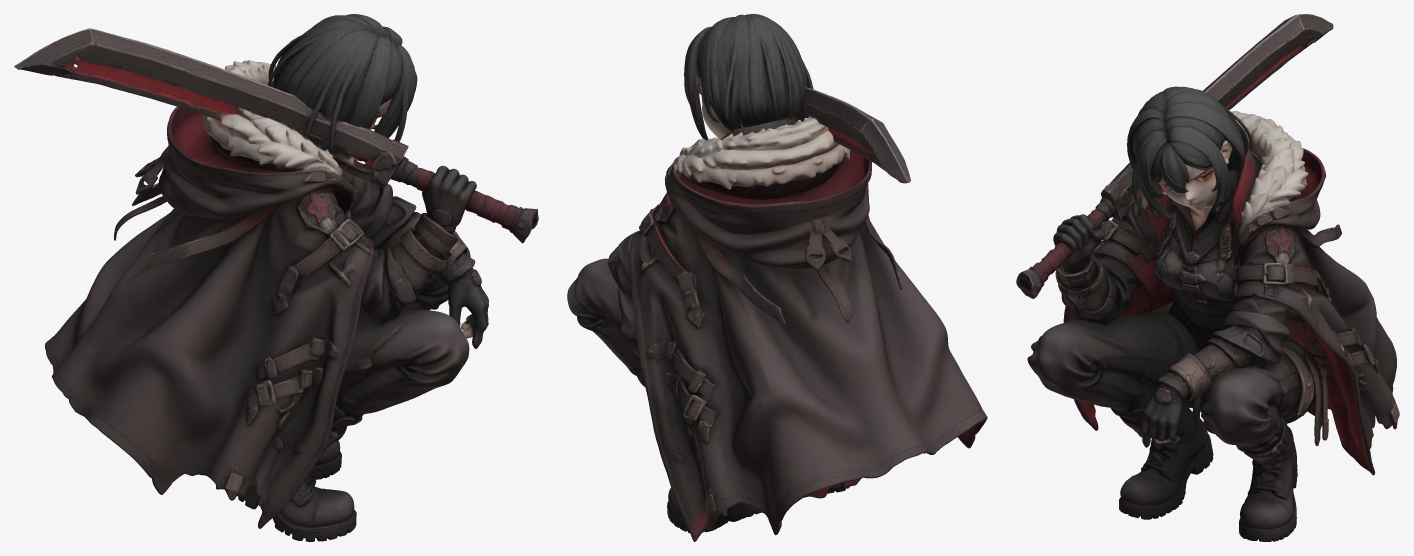
File: 332-armored-female-warrior.glb
The picture shows the model from 3 angles, left to right: view 1: azimuth 30°, elevation 25°; view 2: azimuth 150°, elevation 25°; view 3: azimuth 270°, elevation 25°; orthographic projection. The views are drawn at different scales.
Visible parts, largest first — view 1: tripo_node_f992da88-65e1-409c-8791-e50f4ee4d85c; view 2: tripo_node_f992da88-65e1-409c-8791-e50f4ee4d85c; view 3: tripo_node_f992da88-65e1-409c-8791-e50f4ee4d85c.
Boxes of the visible parts, bbox=[...] form: tripo_node_f992da88-65e1-409c-8791-e50f4ee4d85c: bbox=[14, 14, 538, 541]; tripo_node_f992da88-65e1-409c-8791-e50f4ee4d85c: bbox=[567, 14, 987, 541]; tripo_node_f992da88-65e1-409c-8791-e50f4ee4d85c: bbox=[1016, 14, 1399, 541].
Size of the model in its own units: 0.8569 by 1 by 0.7907.
1 material, 1 textured.
